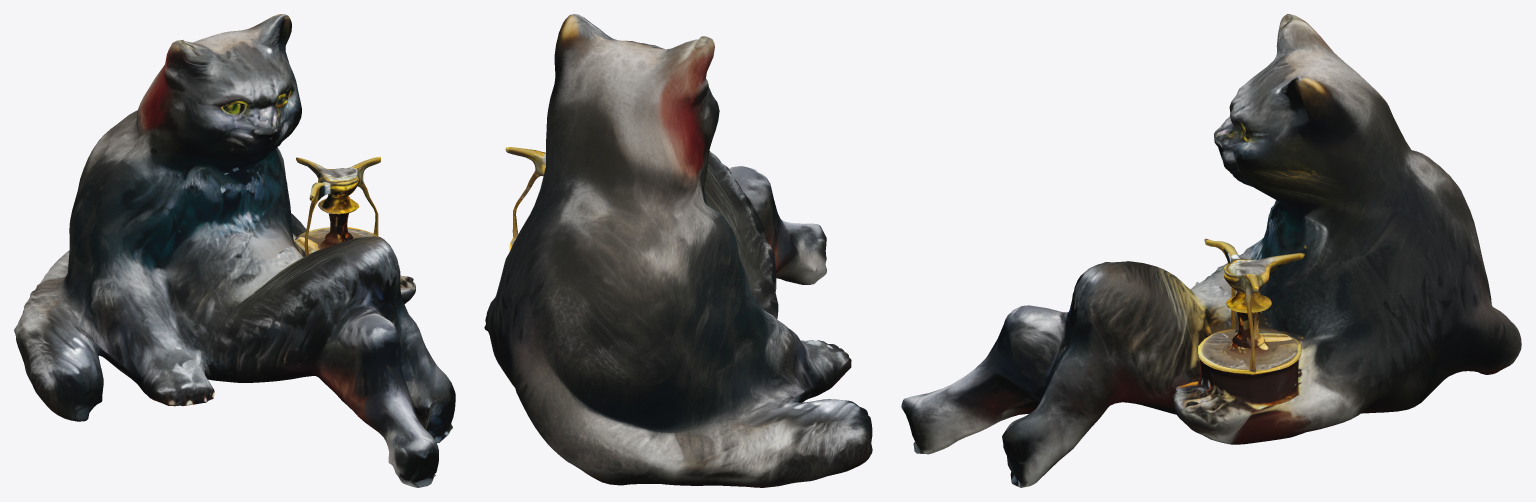
File: base_basic_shaded.glb
3 renders of one model, left to right at view 1: azimuth 30°, elevation 25°; view 2: azimuth 150°, elevation 25°; view 3: azimuth 270°, elevation 25°, orthographic. The views are drawn at different scales.
Parts seen in each view (by area): view 1: model; view 2: model; view 3: model.
Part boxes in pixels (<box>): model: <box>14,14,455,487</box>; model: <box>484,14,872,487</box>; model: <box>901,14,1521,487</box>.
Size of the model in its own units: 1.34 by 1.34 by 1.91.
1 material, 1 textured.
